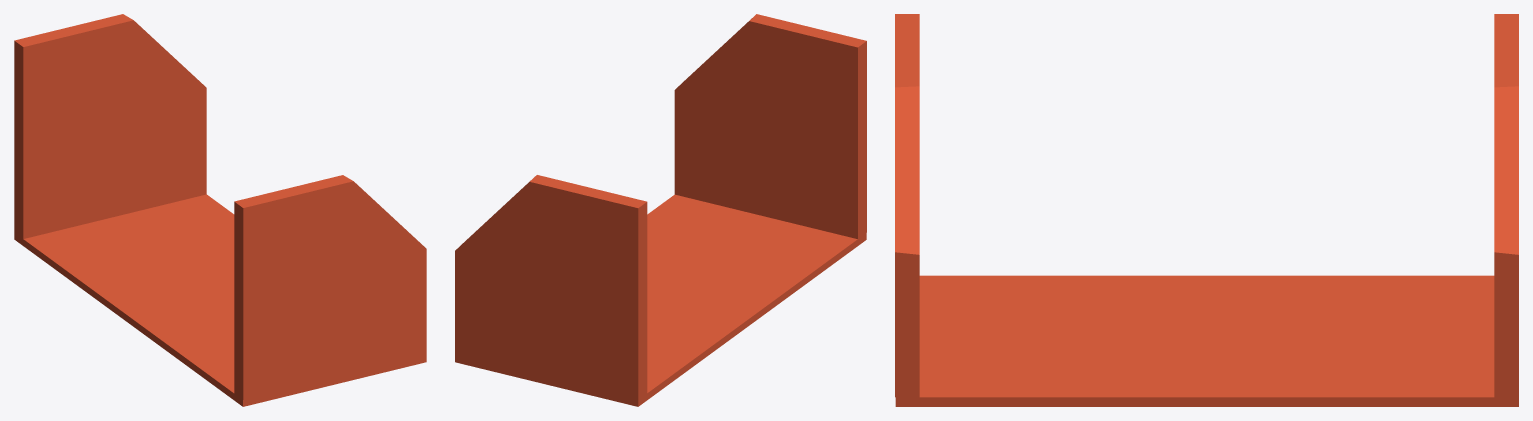
Rendered from DiskHolder.fbx.
3 views of the same model, side by side, from view 1: azimuth 30°, elevation 25°; view 2: azimuth 150°, elevation 25°; view 3: azimuth 270°, elevation 25° (orthographic). The views are drawn at different scales.
Visible parts, largest first — view 1: DiskHolder; view 2: DiskHolder; view 3: DiskHolder.
Part boxes in pixels (x1,y1,x2,y2): DiskHolder: (14, 14, 426, 406); DiskHolder: (455, 14, 866, 406); DiskHolder: (895, 14, 1518, 406).
Size of the model in its own units: 200 by 207 by 432.
